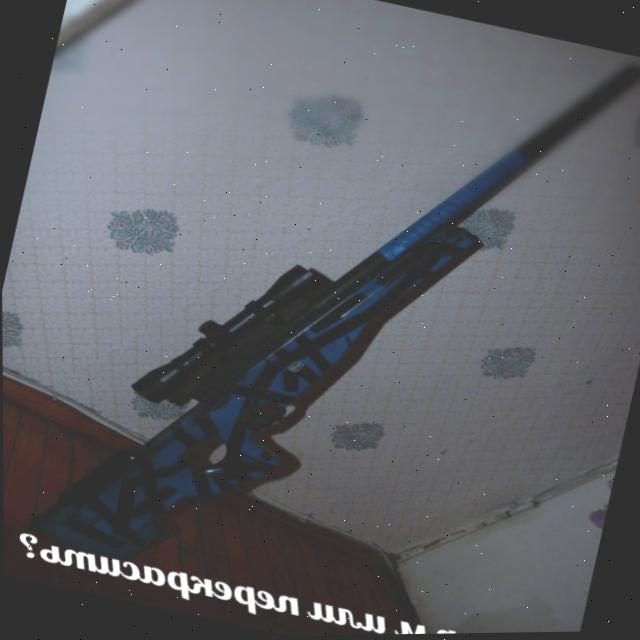firearm: (44, 0, 640, 639)
